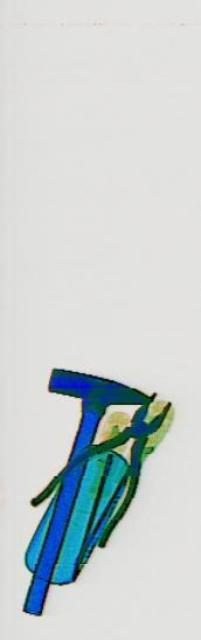Pliers: (28, 329, 177, 617)
